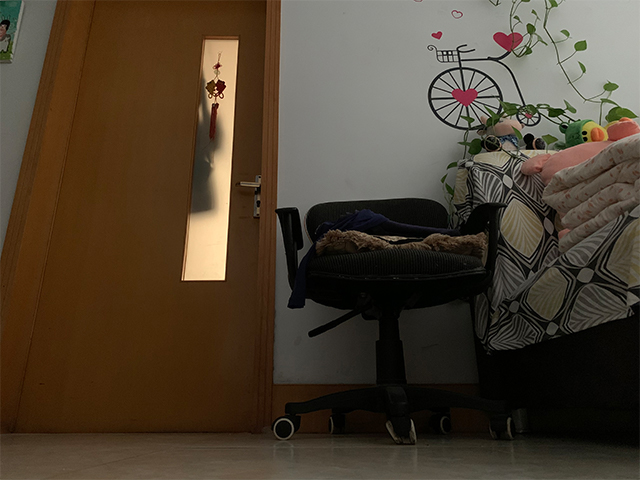sofa: (448, 134, 640, 446)
stool: (265, 196, 523, 447)
